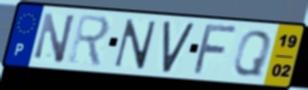F: (190, 23, 241, 77)
N: (111, 18, 159, 71), (32, 11, 78, 65)
Q: (231, 29, 274, 78)
R: (67, 12, 112, 69)
V: (161, 20, 197, 74)
